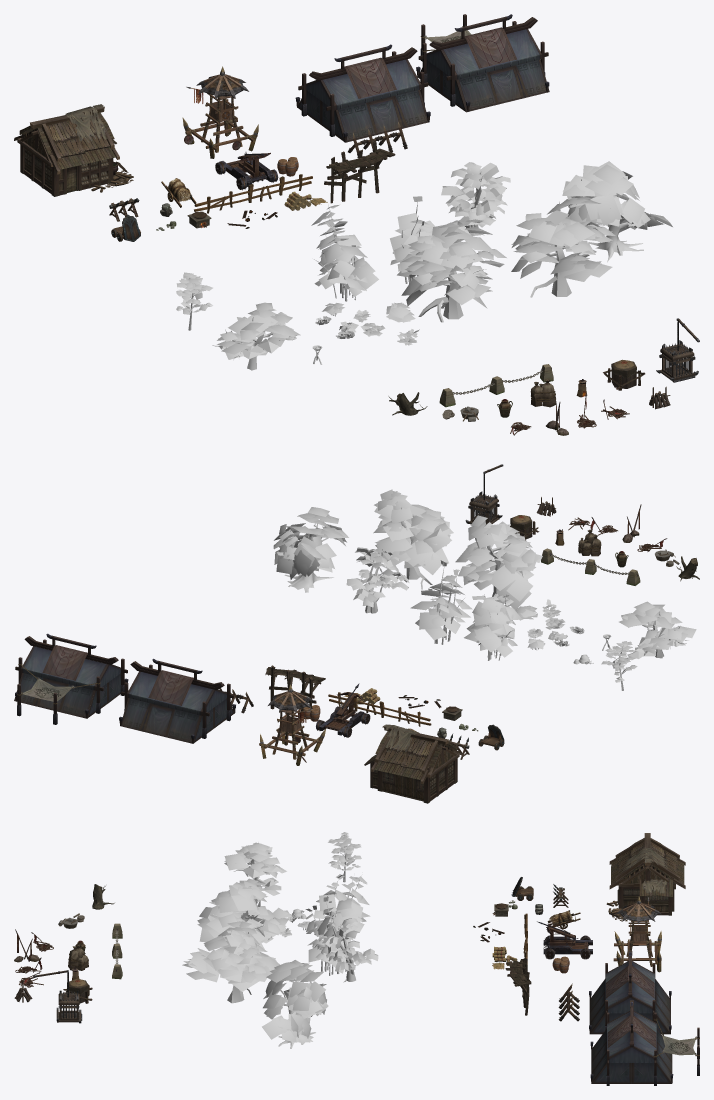
The model's file is s7_3d_new_pve202_wujian001.FBX.
The picture shows the model from 3 angles, top to bottom: view 1: azimuth 30°, elevation 25°; view 2: azimuth 150°, elevation 25°; view 3: azimuth 270°, elevation 25°; orthographic projection. The views are drawn at different scales.
Parts seen in each view (by area): view 1: s7_3d_new_pve202_zhangpeng001, s7_3d_new_pve202_zhangpeng002, s7_3d_new_pve202_mufang001, s7_3d_new_pve202_dashu003, s7_3d_new_pve202_dashu002, s7_3d_new_pve202_dashu001, s7_3d_new_pve202_dashu005 (×2), s7_3d_new_pve202_zhuzi002, s7_3d_new_pve202_liaowangtai001, s7_3d_new_pve202_dashu004, s7_3d_new_pve202_mujia001, s7_3d_new_pve202_zhuzi001 (+5 smaller); view 2: s7_3d_new_pve202_zhangpeng001, s7_3d_new_pve202_zhangpeng002, s7_3d_new_pve202_mufang001, s7_3d_new_pve202_dashu003, s7_3d_new_pve202_dashu002, s7_3d_new_pve202_dashu001, s7_3d_new_pve202_dashu005 (×2), s7_3d_new_pve202_zhuzi002, s7_3d_new_pve202_zhuzi001, s7_3d_new_pve202_liaowangtai001, s7_3d_new_pve202_dashu004, s7_3d_new_pve202_nuche001 (+4 smaller); view 3: s7_3d_new_pve202_zhangpeng001, s7_3d_new_pve202_mufang001, s7_3d_new_pve202_zhangpeng002, s7_3d_new_pve202_dashu002, s7_3d_new_pve202_dashu001, s7_3d_new_pve202_dashu003, s7_3d_new_pve202_dashu005 (×2), s7_3d_new_pve202_dashu004, s7_3d_new_pve202_liaowangtai001, s7_3d_new_pve202_zhuzi002, s7_3d_new_pve202_nuche001, s7_3d_new_pve202_zhuzi001 (+6 smaller).
Part boxes in pixels (x1,y1,x2,y2): s7_3d_new_pve202_zhangpeng001: (416, 14, 549, 112); s7_3d_new_pve202_zhangpeng002: (295, 44, 430, 142); s7_3d_new_pve202_mufang001: (14, 104, 133, 196); s7_3d_new_pve202_dashu003: (401, 219, 506, 322); s7_3d_new_pve202_dashu002: (511, 196, 615, 297); s7_3d_new_pve202_dashu001: (562, 161, 672, 262); s7_3d_new_pve202_dashu005 (×2): (176, 272, 300, 370); s7_3d_new_pve202_zhuzi002: (311, 204, 378, 301); s7_3d_new_pve202_liaowangtai001: (182, 66, 258, 158); s7_3d_new_pve202_dashu004: (441, 162, 510, 235); s7_3d_new_pve202_mujia001: (324, 141, 395, 203); s7_3d_new_pve202_zhuzi001: (390, 196, 434, 283); s7_3d_new_pve202_zhangpeng001: (14, 633, 128, 724); s7_3d_new_pve202_zhangpeng002: (119, 658, 235, 743); s7_3d_new_pve202_mufang001: (364, 724, 464, 803); s7_3d_new_pve202_dashu003: (455, 515, 542, 610); s7_3d_new_pve202_dashu002: (373, 489, 453, 589); s7_3d_new_pve202_dashu001: (273, 507, 348, 592); s7_3d_new_pve202_dashu005 (×2): (601, 601, 696, 690); s7_3d_new_pve202_zhuzi002: (464, 593, 522, 660); s7_3d_new_pve202_zhuzi001: (410, 560, 472, 644); s7_3d_new_pve202_liaowangtai001: (259, 684, 326, 765); s7_3d_new_pve202_dashu004: (346, 547, 409, 613); s7_3d_new_pve202_nuche001: (316, 683, 370, 737); s7_3d_new_pve202_zhangpeng001: (590, 1000, 699, 1085); s7_3d_new_pve202_mufang001: (606, 833, 685, 921); s7_3d_new_pve202_zhangpeng002: (589, 950, 671, 1034); s7_3d_new_pve202_dashu002: (182, 921, 279, 1003); s7_3d_new_pve202_dashu001: (262, 960, 328, 1048); s7_3d_new_pve202_dashu003: (197, 878, 291, 949); s7_3d_new_pve202_dashu005 (×2): (224, 832, 361, 895); s7_3d_new_pve202_dashu004: (312, 918, 378, 982); s7_3d_new_pve202_liaowangtai001: (613, 896, 661, 972); s7_3d_new_pve202_zhuzi002: (314, 874, 370, 938); s7_3d_new_pve202_nuche001: (537, 921, 592, 959); s7_3d_new_pve202_zhuzi001: (305, 896, 352, 975).
Size of the model in its own units: 40.18 by 8.11 by 52.11.
